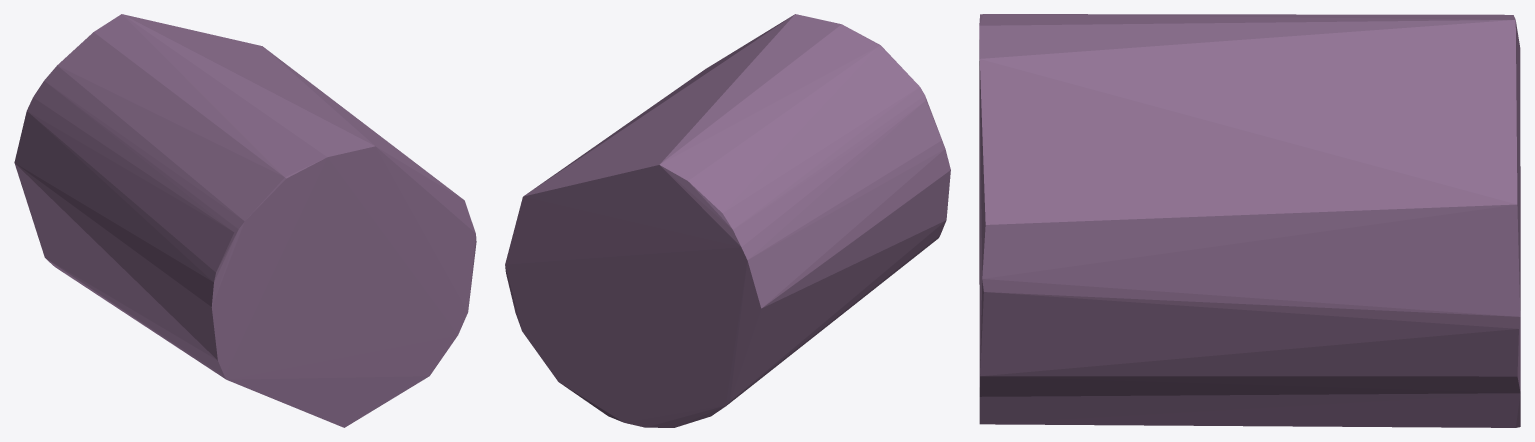
Rendered from food_canned_soup_a03.glb.
3 views of the same model, side by side, from view 1: azimuth 30°, elevation 25°; view 2: azimuth 150°, elevation 25°; view 3: azimuth 270°, elevation 25° (orthographic). The views are drawn at different scales.
Parts seen in each view (by area): view 1: geometry_0; view 2: geometry_0; view 3: geometry_0.
Part boxes in pixels (left/top/right/bottom): geometry_0: left=14, top=14, right=476, bottom=427; geometry_0: left=505, top=14, right=950, bottom=427; geometry_0: left=979, top=14, right=1520, bottom=427.
Size of the model in its own units: 0.3684 by 0.3661 by 0.4794.
